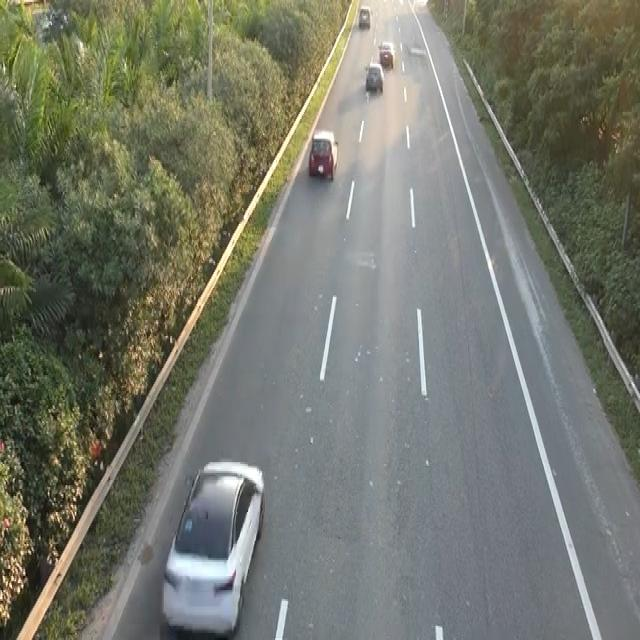bus: (159, 455, 268, 638), (307, 126, 339, 182), (364, 58, 384, 92), (357, 4, 371, 28)
